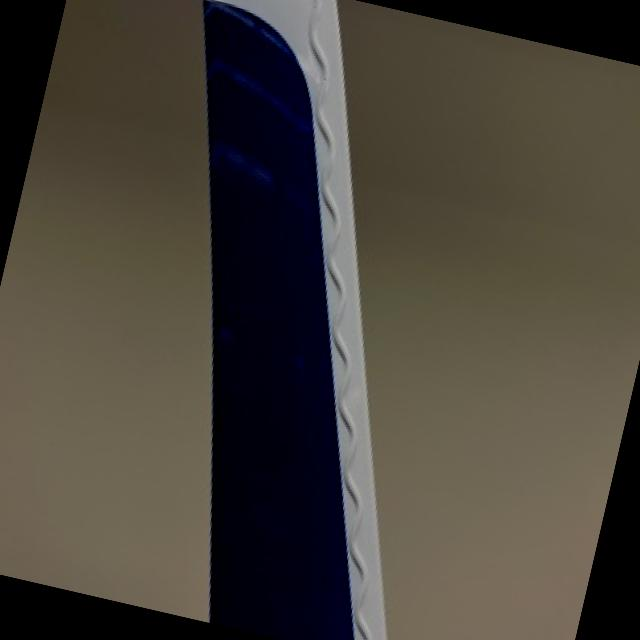healthy: (203, 0, 384, 640)
